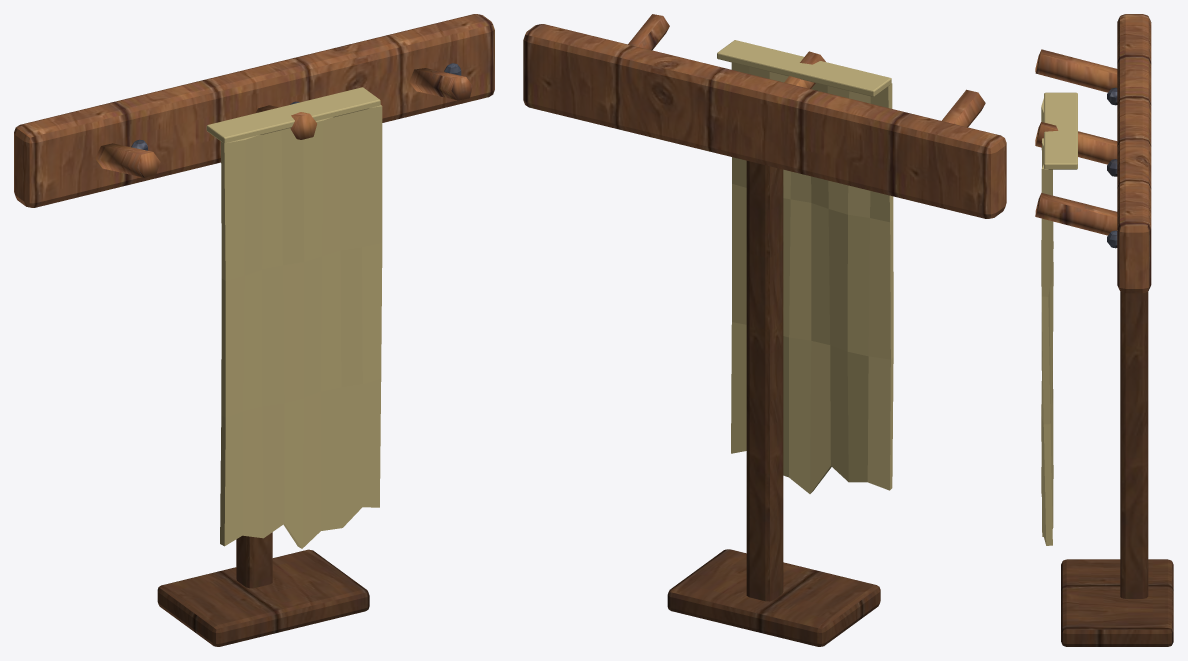
The model's file is shack_peg_rack.glb.
The picture shows the model from 3 angles, left to right: view 1: azimuth 30°, elevation 25°; view 2: azimuth 150°, elevation 25°; view 3: azimuth 270°, elevation 25°; orthographic projection. The views are drawn at different scales.
Parts seen in each view (by area): view 1: model; view 2: model; view 3: model.
Boxes of the visible parts, x1,y1,x2,y2 form: model: (14, 14, 494, 646); model: (523, 14, 1006, 646); model: (1035, 14, 1173, 646).
Size of the model in its own units: 0.9 by 0.97 by 0.2456.
5 materials, 4 textured.
